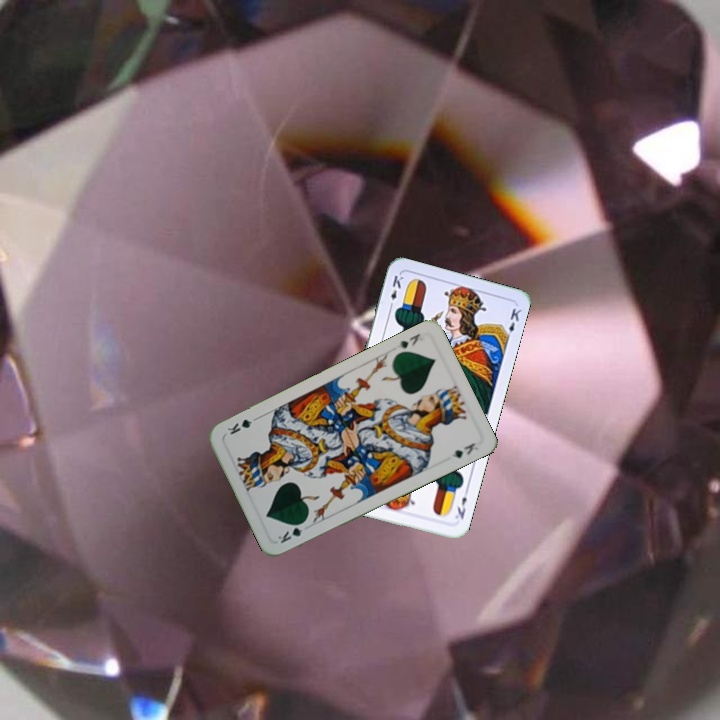EK: (385, 271, 406, 311), (451, 485, 471, 522)
GK: (274, 517, 309, 546), (393, 329, 423, 351)
